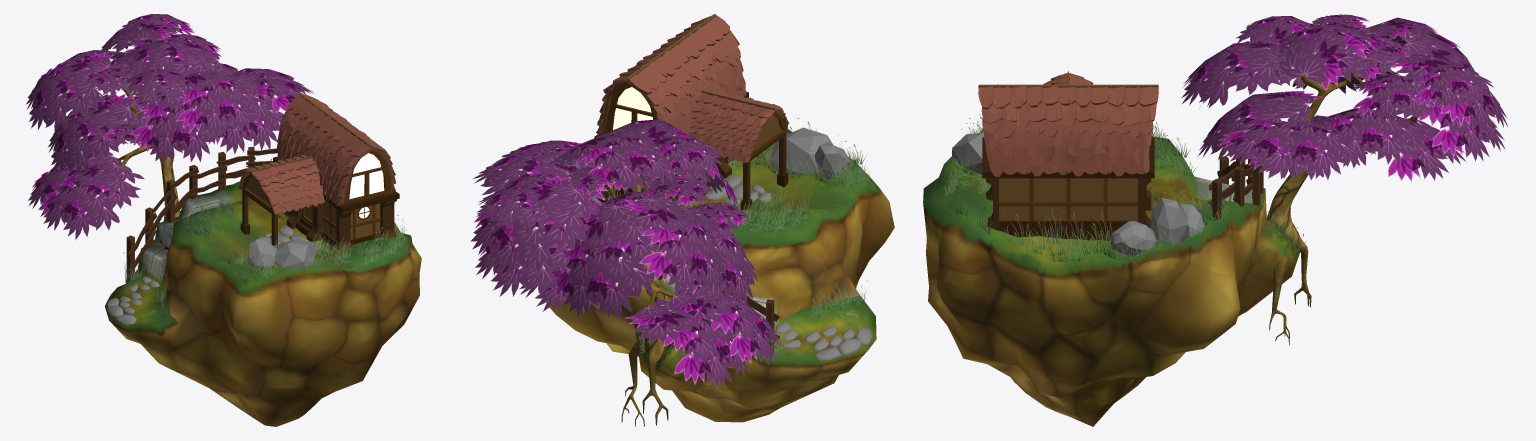
The picture shows the model from 3 angles, left to right: view 1: azimuth 30°, elevation 25°; view 2: azimuth 150°, elevation 25°; view 3: azimuth 270°, elevation 25°; orthographic projection. The views are drawn at different scales.
Visible parts, largest first — view 1: tanah, rumah, daun.014, daun.011, daun.001, daun.021, daun.020, daun.010, daun.017, daun.008, daun.004, daun.003 (+9 smaller); view 2: tanah, rumah, daun.006, daun.003, daun.011, daun.004, daun.010, daun.014, daun.021, daun.013, pohon, daun.002 (+12 smaller); view 3: tanah, rumah, daun.010, daun.001, pohon, daun.007, daun.017, daun.002, daun.016, daun.003, daun.013, daun.023 (+10 smaller).
Part boxes in pixels (x1,y1,x2,y2): tanah: [105, 181, 421, 426]; rumah: [238, 93, 399, 250]; daun.014: [40, 162, 144, 240]; daun.011: [26, 50, 119, 132]; daun.001: [176, 67, 261, 139]; daun.021: [47, 92, 138, 175]; daun.020: [130, 92, 225, 164]; daun.010: [120, 38, 221, 77]; daun.017: [208, 75, 283, 154]; daun.008: [124, 68, 186, 101]; daun.004: [28, 149, 132, 218]; daun.003: [101, 21, 183, 54]; tanah: [546, 129, 894, 422]; rumah: [594, 14, 789, 209]; daun.006: [551, 201, 662, 325]; daun.003: [470, 174, 599, 275]; daun.011: [621, 199, 729, 296]; daun.004: [625, 299, 749, 388]; daun.010: [555, 135, 677, 193]; daun.014: [666, 287, 782, 364]; daun.021: [669, 209, 758, 308]; daun.013: [475, 241, 569, 297]; pohon: [607, 144, 677, 426]; daun.002: [472, 154, 594, 195]; tanah: [923, 136, 1299, 426]; rumah: [978, 71, 1158, 240]; daun.010: [1274, 24, 1379, 90]; daun.001: [1181, 42, 1301, 108]; pohon: [1267, 31, 1418, 345]; daun.007: [1313, 108, 1425, 168]; daun.017: [1198, 91, 1323, 160]; daun.002: [1247, 121, 1364, 180]; daun.016: [1218, 121, 1324, 180]; daun.003: [1386, 53, 1508, 134]; daun.013: [1395, 98, 1505, 161]; daun.023: [1351, 74, 1441, 121].
Bounding box in the file's own units: 2411 × 2600 × 3694.
12 materials, 5 textured.
